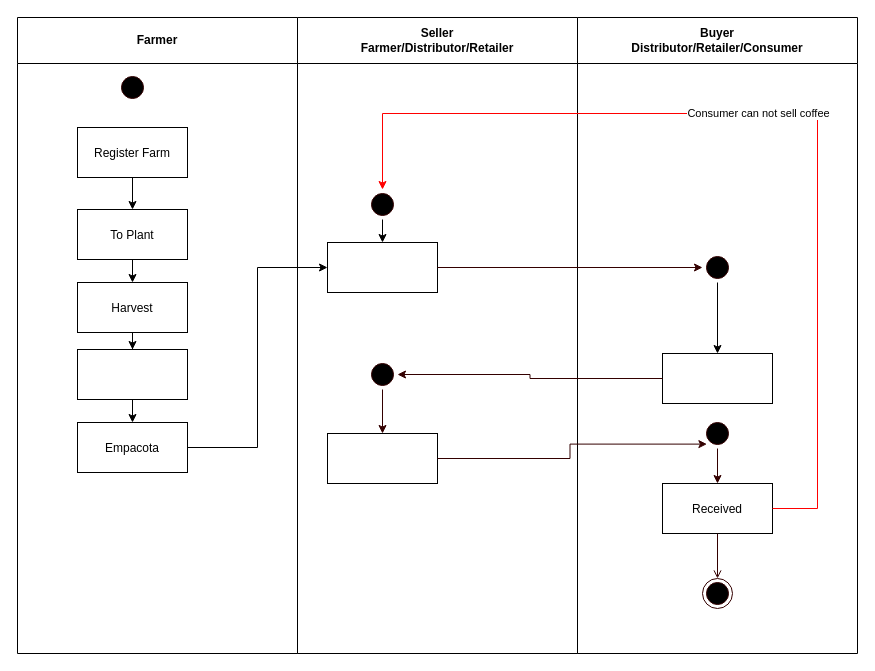
Image size: 875x671. Some labels were removed from this diagram. Here are the shapes that lost their labels. From the top down, the centre of each, then its label:
At pixel 382 267: "For Sale".
At pixel 132 374: "Process".
At pixel 717 378: "Buy".
At pixel 382 458: "Shipped".
